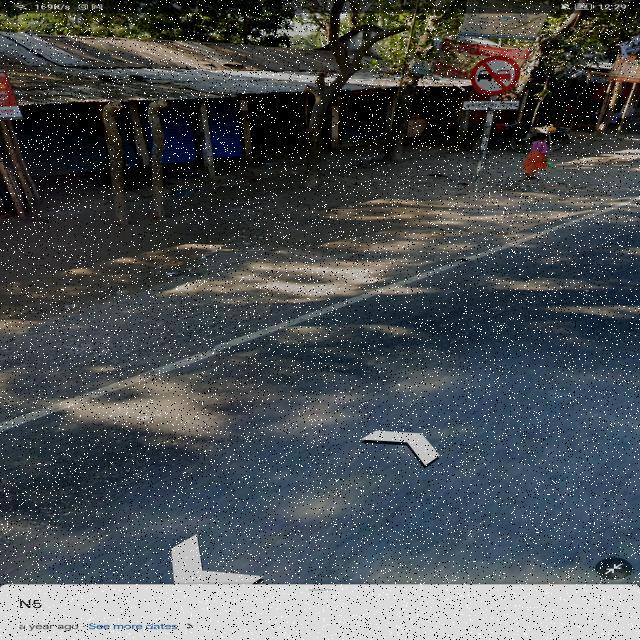Don-t-Overtracking: (456, 47, 522, 151)
